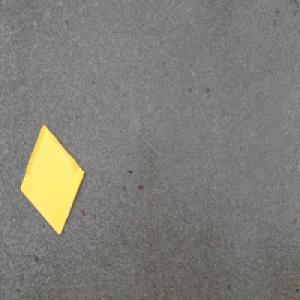PlasticPart: (18, 122, 85, 236)
